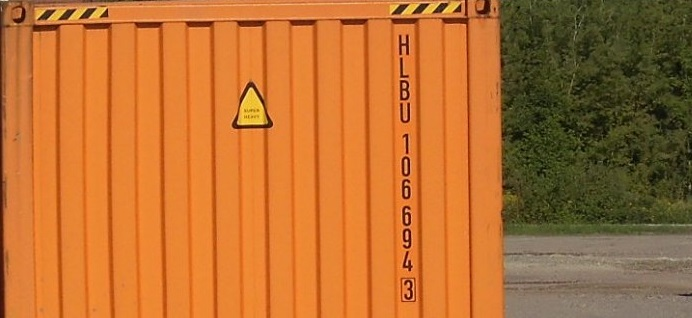container_no_door: (4, 2, 501, 318)
